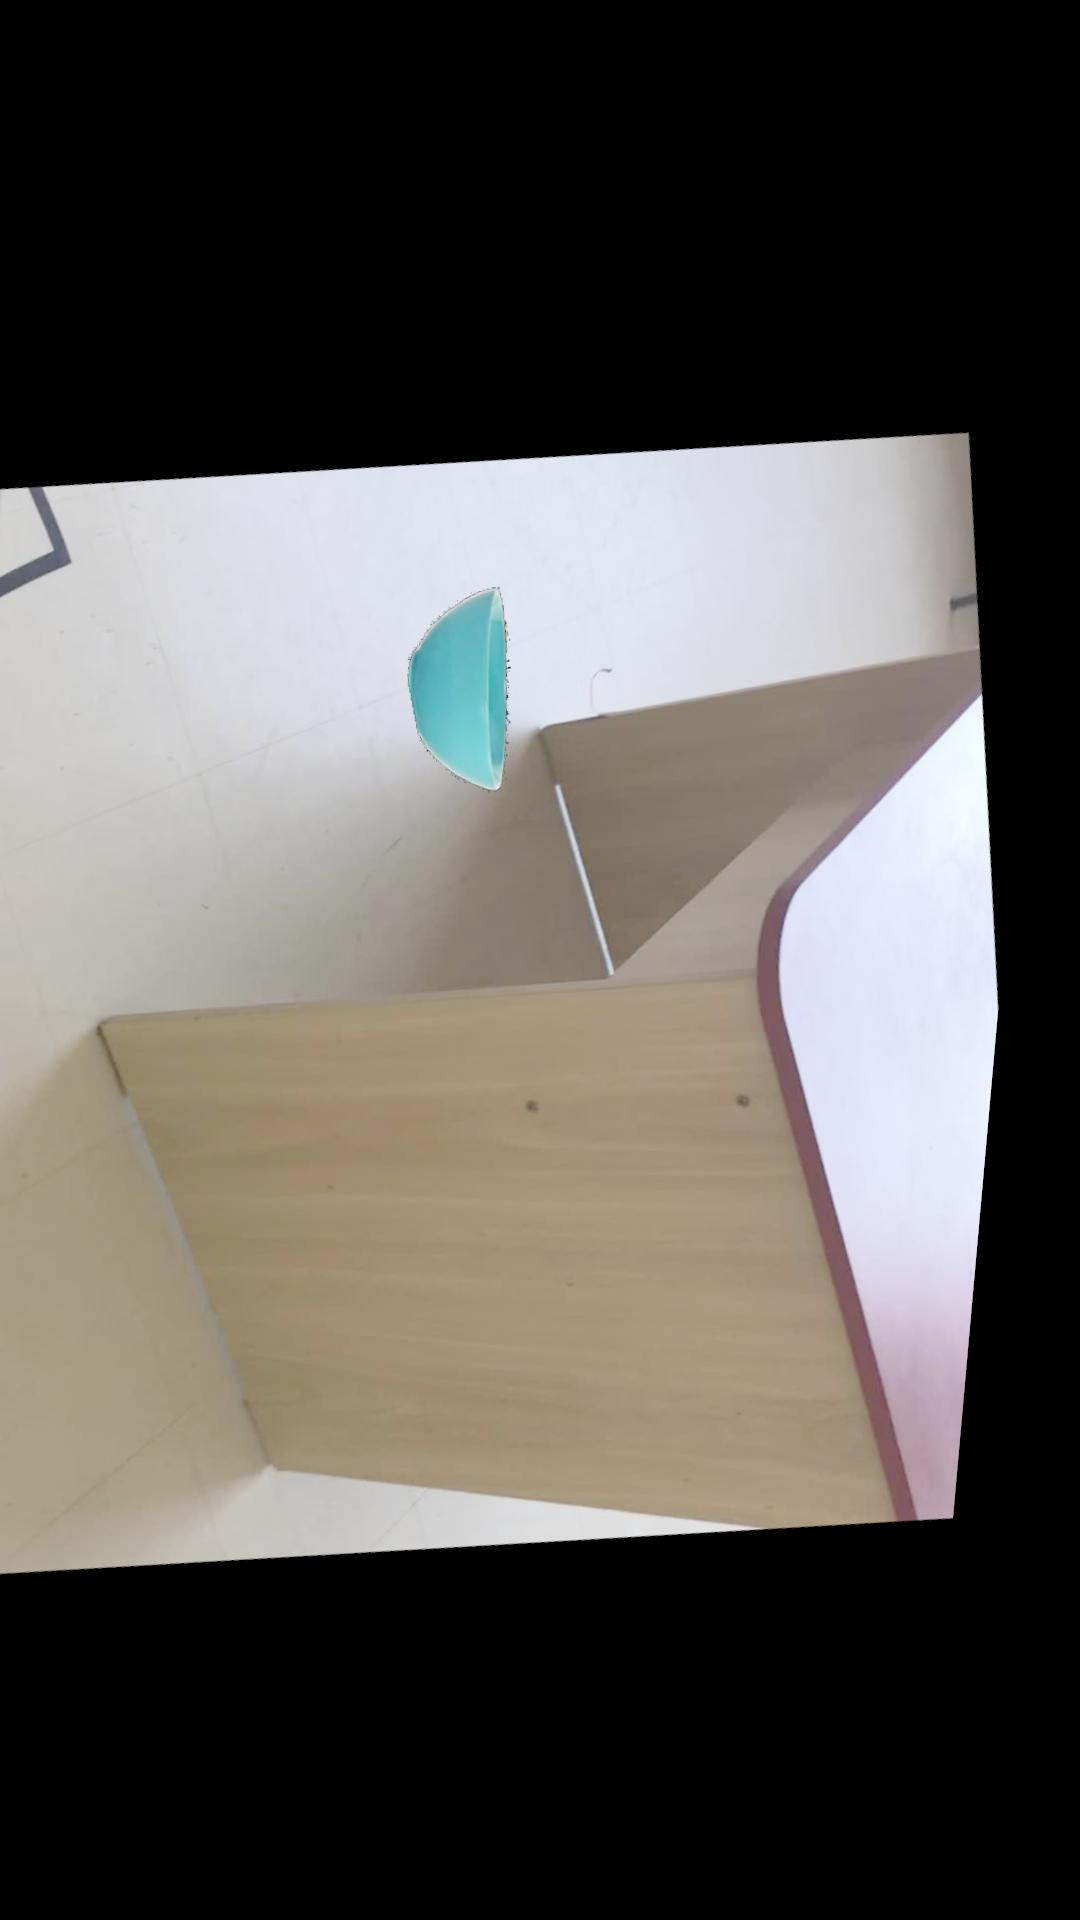bowl: (421, 575, 524, 779)
